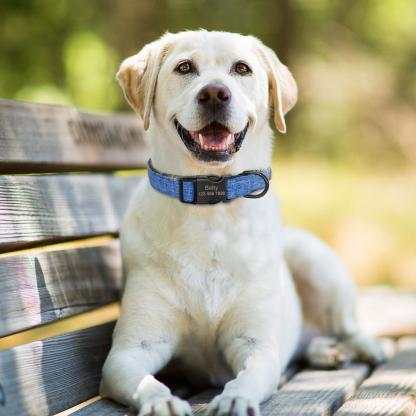Rotveler: (100, 23, 387, 415)
